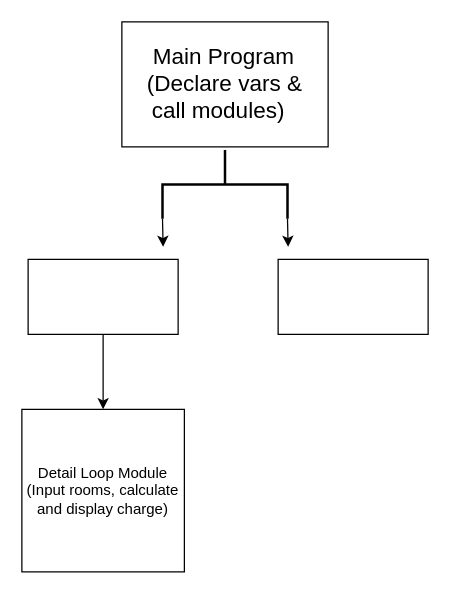
Image size: 450x594. Some labels were removed from this diagram. Here are the shapes that lost their labels. From the top down, the centre of each, then its label:
point (102, 296): Housekeeping Module (Input Name)
point (352, 296): End-of-Job Module (Display "Program Complete")
